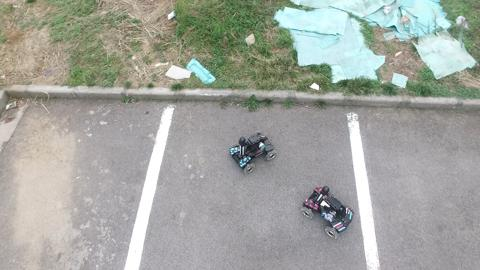chariot: (293, 184, 358, 243), (220, 122, 278, 174)
